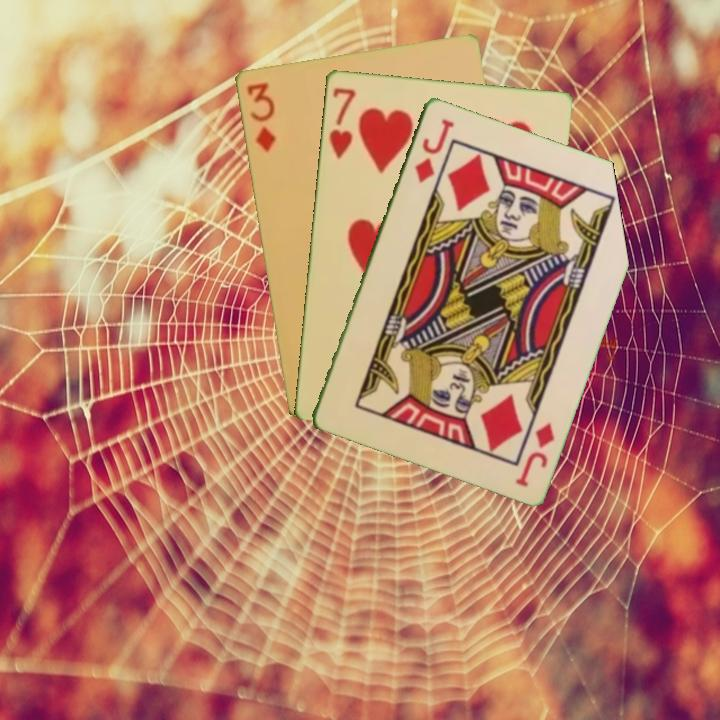3d: (242, 78, 278, 154)
7h: (325, 83, 359, 161)
Jd: (410, 115, 457, 186), (512, 418, 558, 489)
